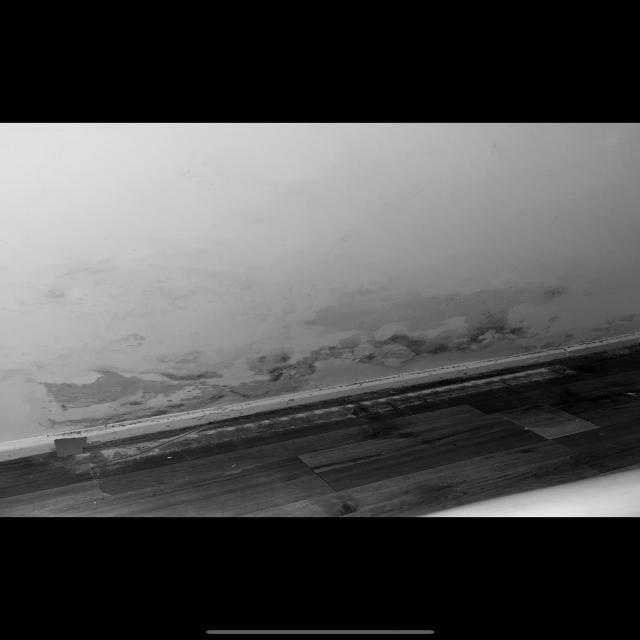stain marks: (4, 247, 640, 434)
